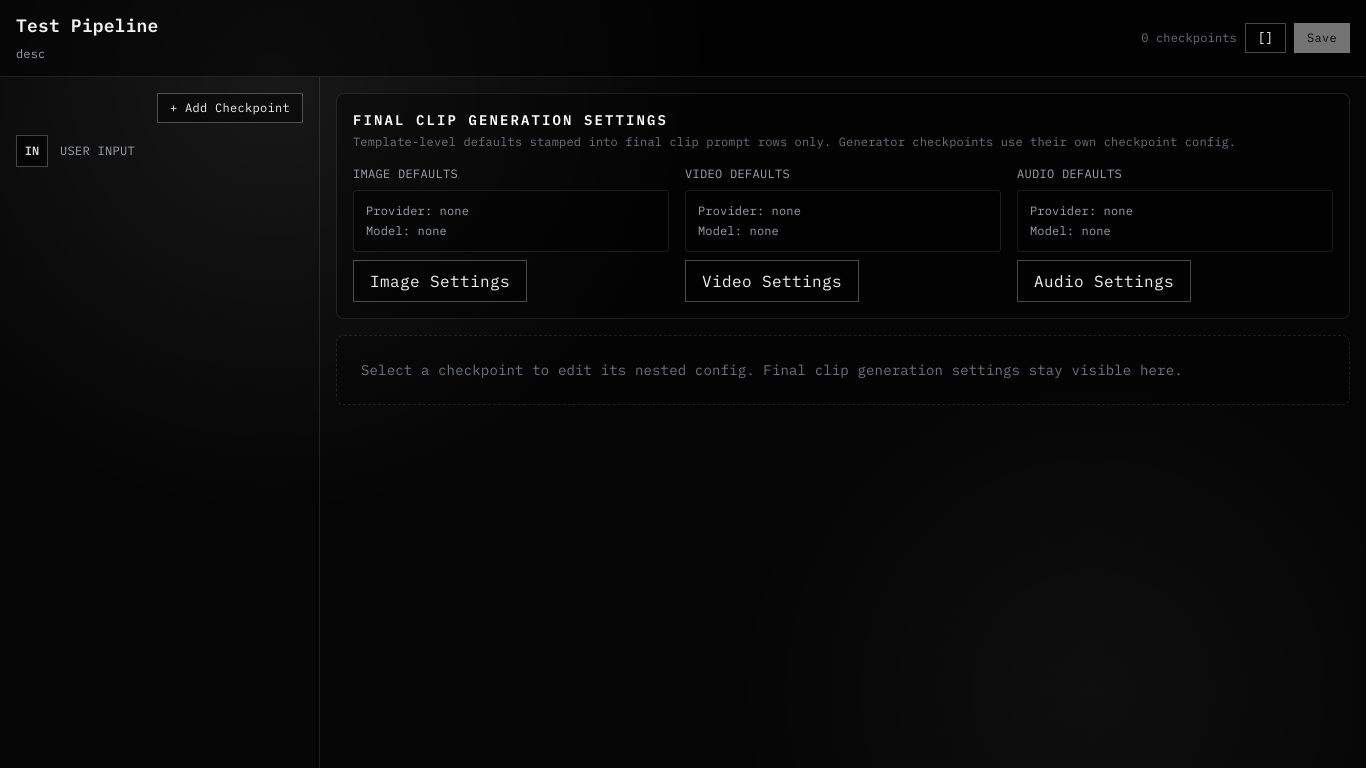
PipelineEditor › opens the extended pipeline view modal from the header button
Click the button named "Open extended view": point(1266, 38) x1=1245 y1=23 x2=1286 y2=53
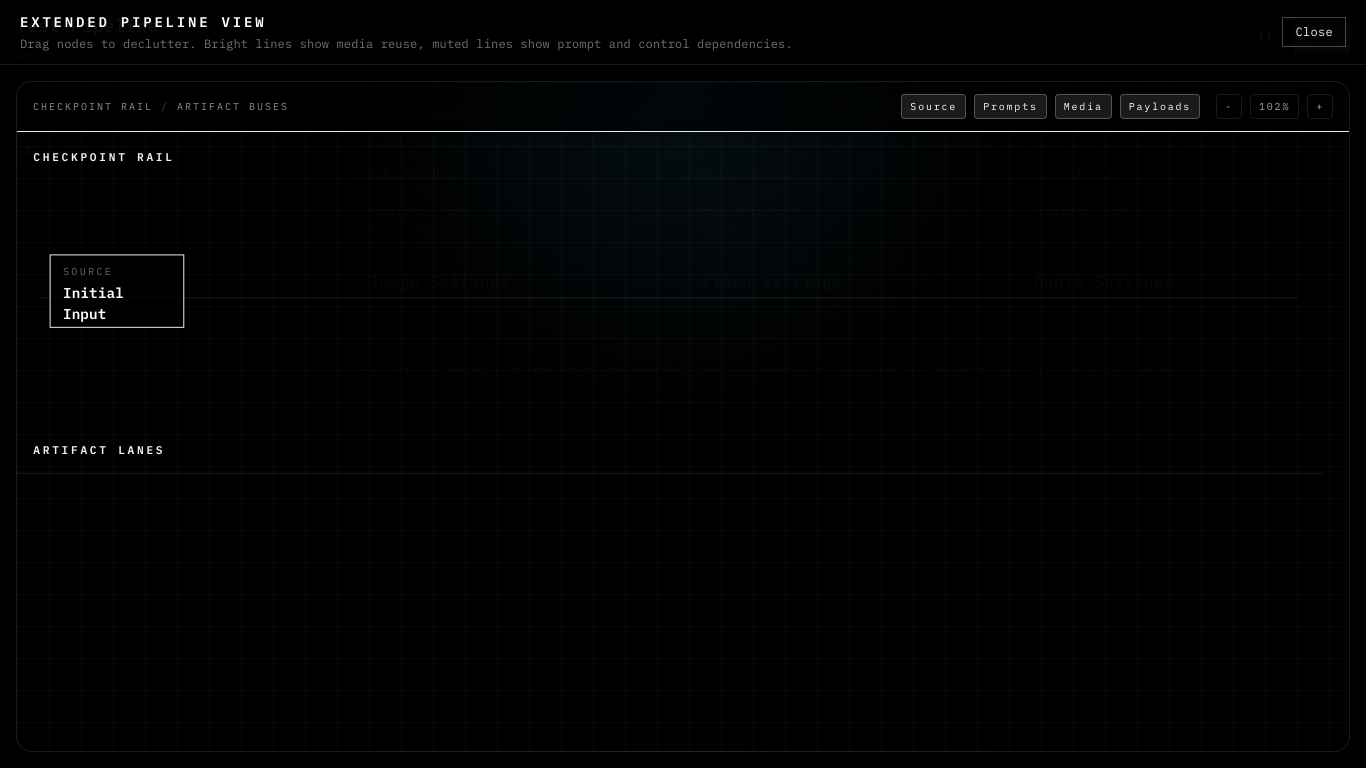
Now the heading "Extended Pipeline View" is shown, box x1=20 y1=13 x2=266 y2=31
